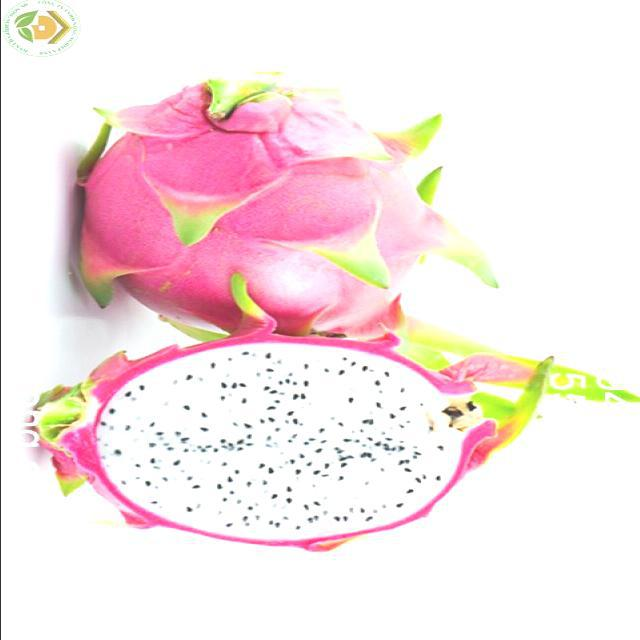trang: (66, 67, 638, 401), (23, 348, 570, 548)
